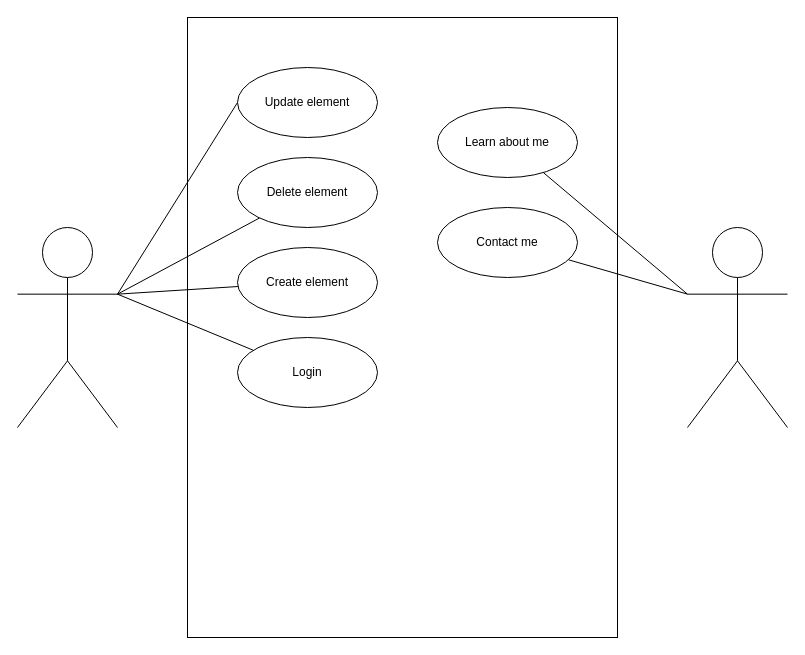
This 805x655 diagram has some shape labels left out. The box of each missing label's shape, as (x1, y1, x2, y2) in pixels:
Mohammad: (16, 226, 118, 428)
Visitor: (686, 226, 788, 428)
